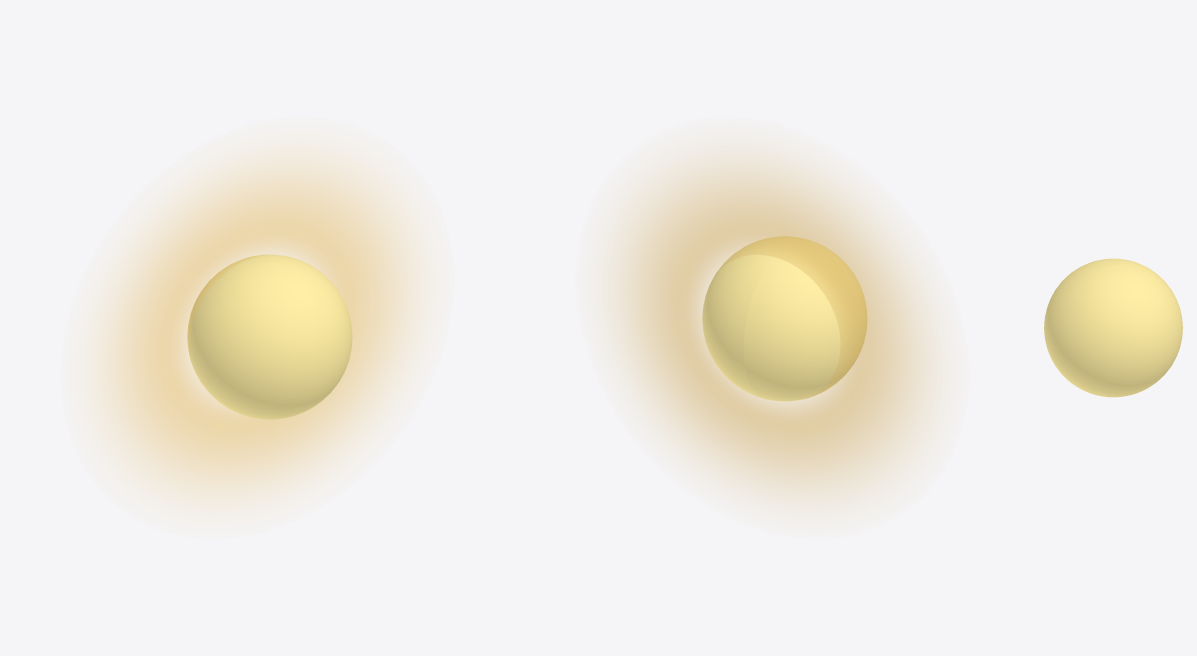
Rendered from sky-sun.glb.
3 views of the same model, side by side, from view 1: azimuth 30°, elevation 25°; view 2: azimuth 150°, elevation 25°; view 3: azimuth 270°, elevation 25° (orthographic). The views are drawn at different scales.
Visible parts, largest first — view 1: sun-halo, sun-ball; view 2: sun-halo, sun-ball; view 3: sun-ball.
Boxes of the visible parts, x1,y1,x2,y2 form: sun-halo: [96, 154, 418, 501]; sun-ball: [187, 254, 352, 419]; sun-halo: [611, 154, 933, 501]; sun-ball: [702, 236, 867, 401]; sun-ball: [1044, 258, 1182, 397].
Size of the model in its own units: 6.8 by 6.8 by 2.
Materials: 2 (2 with a texture image).
